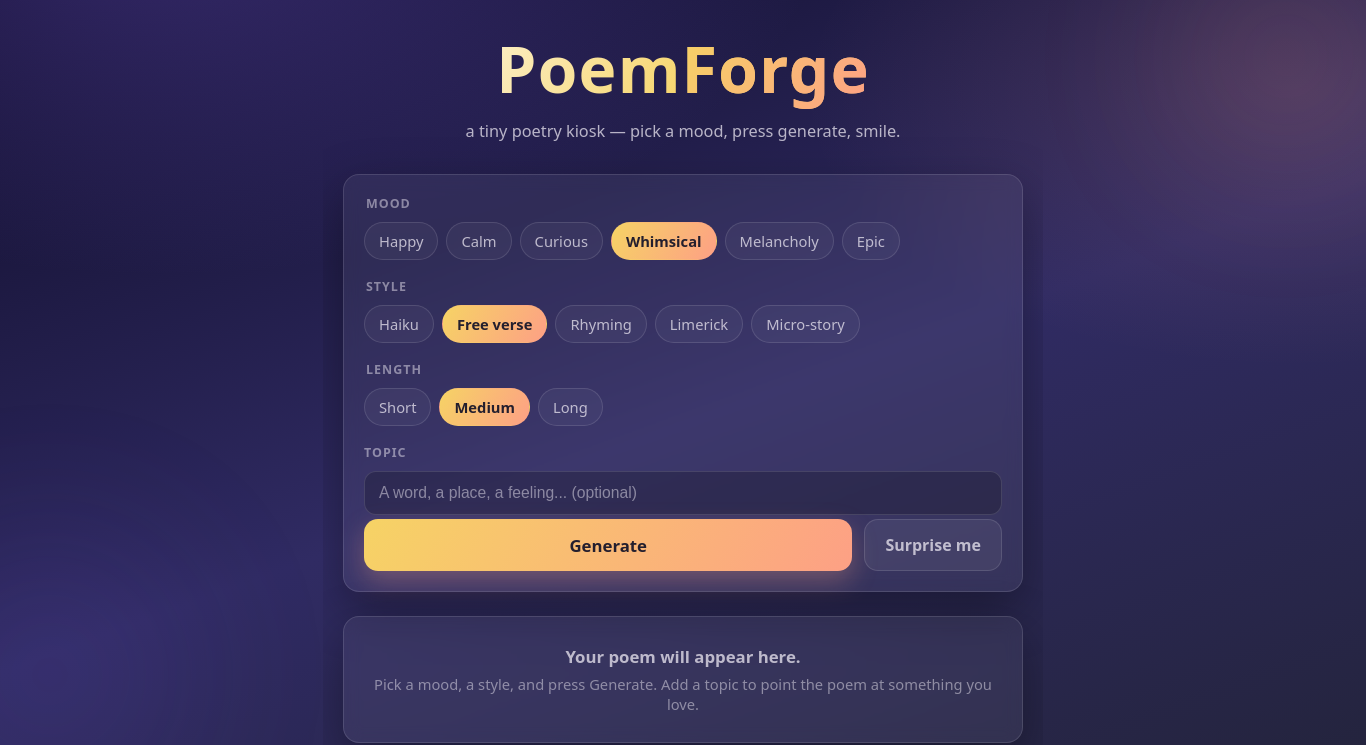
it: App › marks AI-generated poems with the Nova badge
This screenshot has width=1366, height=745.
Click the button "Generate" at point(608, 545), box top-left (364, 519), bottom-right (852, 571)
(page scrolled)
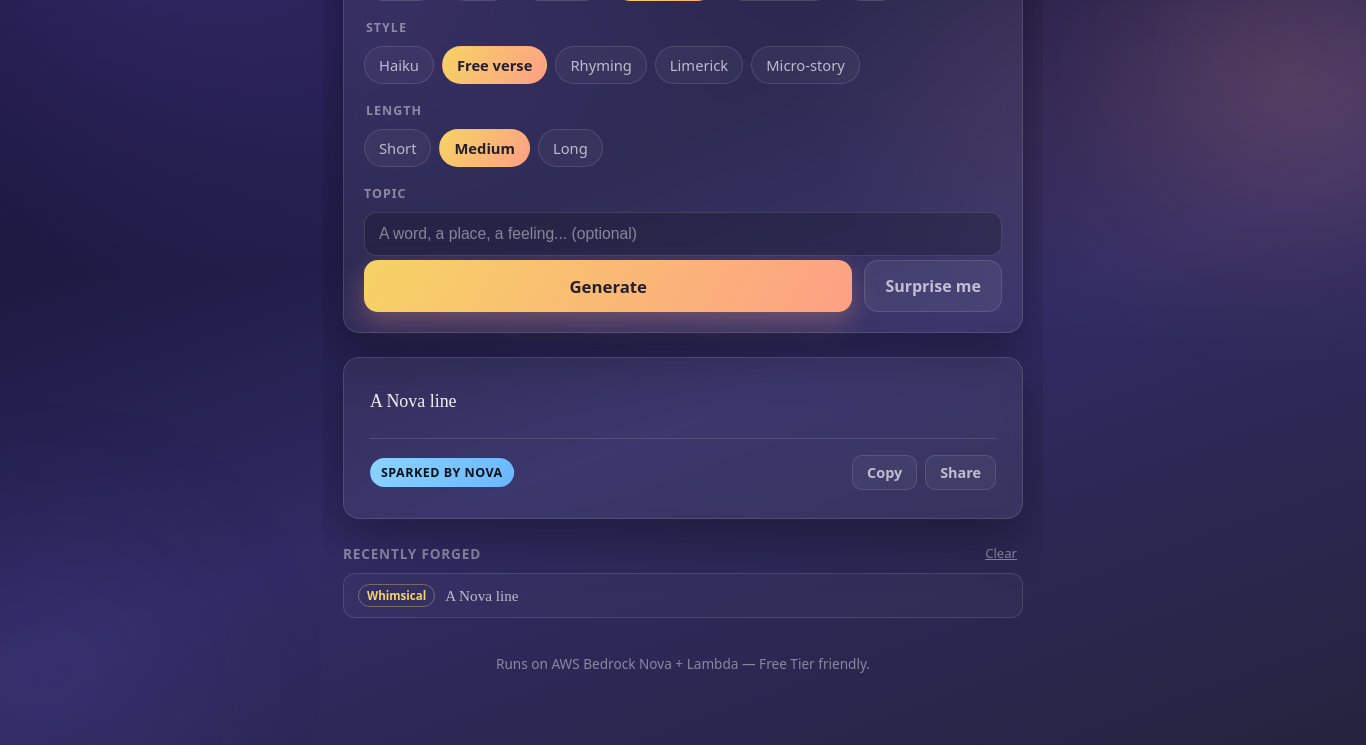
Expected: the text "sparked by Nova" is shown, top-left (370, 458), bottom-right (514, 488)
